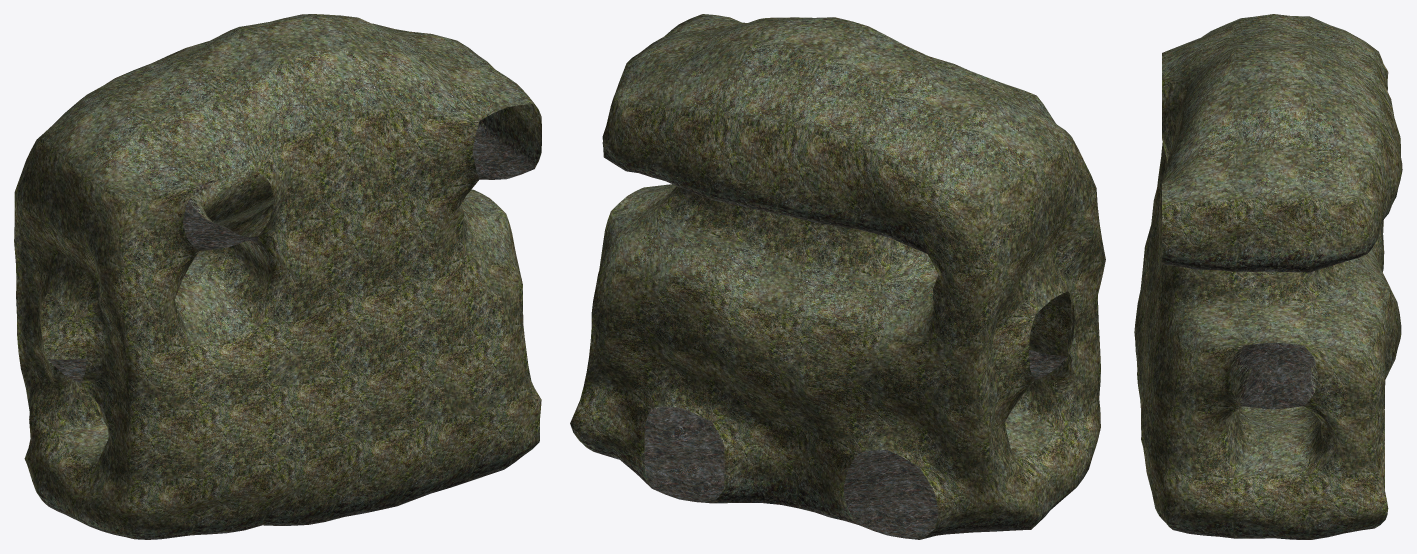
Rendered from thm_all_cave_s03_damprock_r9_r9.fbx.
3 views of the same model, side by side, from view 1: azimuth 30°, elevation 25°; view 2: azimuth 150°, elevation 25°; view 3: azimuth 270°, elevation 25° (orthographic). The views are drawn at different scales.
Visible parts, largest first — view 1: mesh_node; view 2: mesh_node; view 3: mesh_node.
Part boxes in pixels (x1,y1,x2,y2): mesh_node: [14, 14, 541, 539]; mesh_node: [570, 14, 1105, 539]; mesh_node: [1134, 14, 1402, 539].
Bounding box in the file's own units: 50.64 × 50.06 × 28.87.
